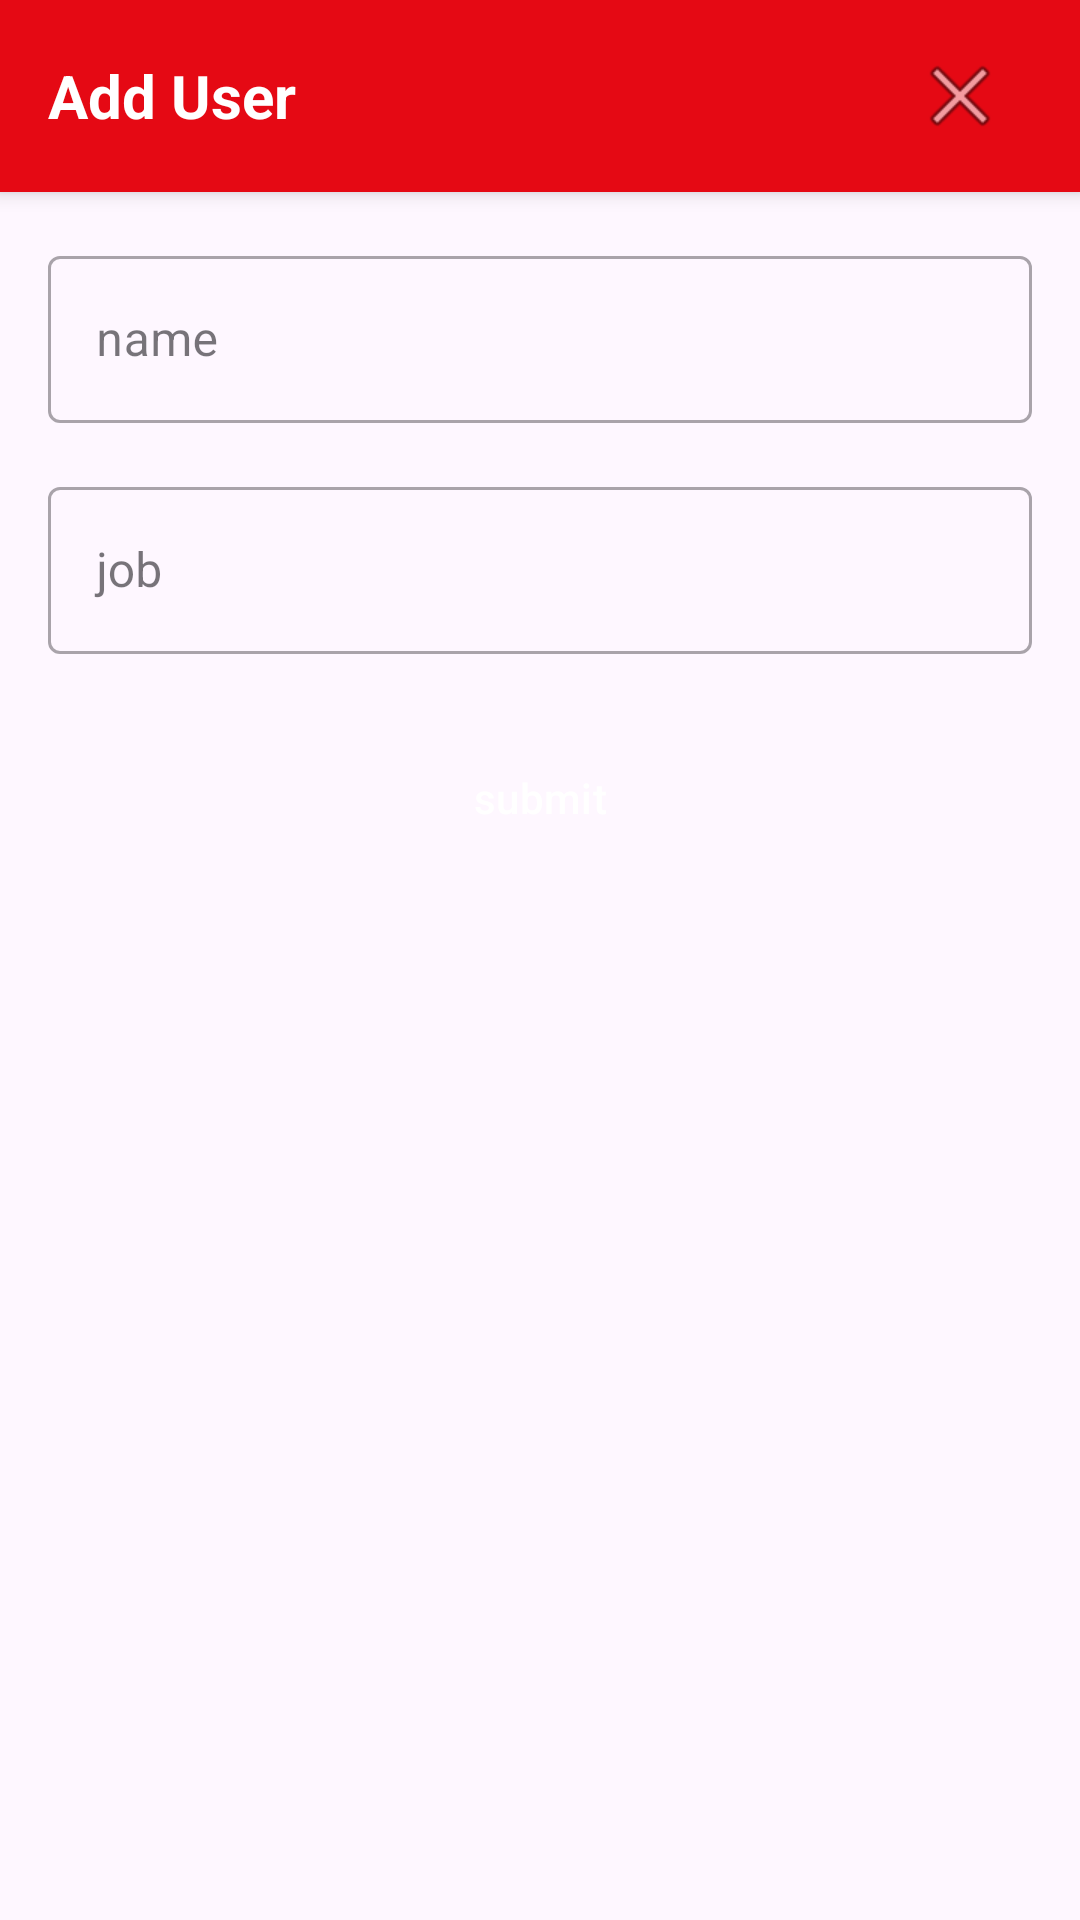

Point at icon controls on the screen. Image size 1080w x 1920h, points as (x,y).
Close add user form: (960,96)
